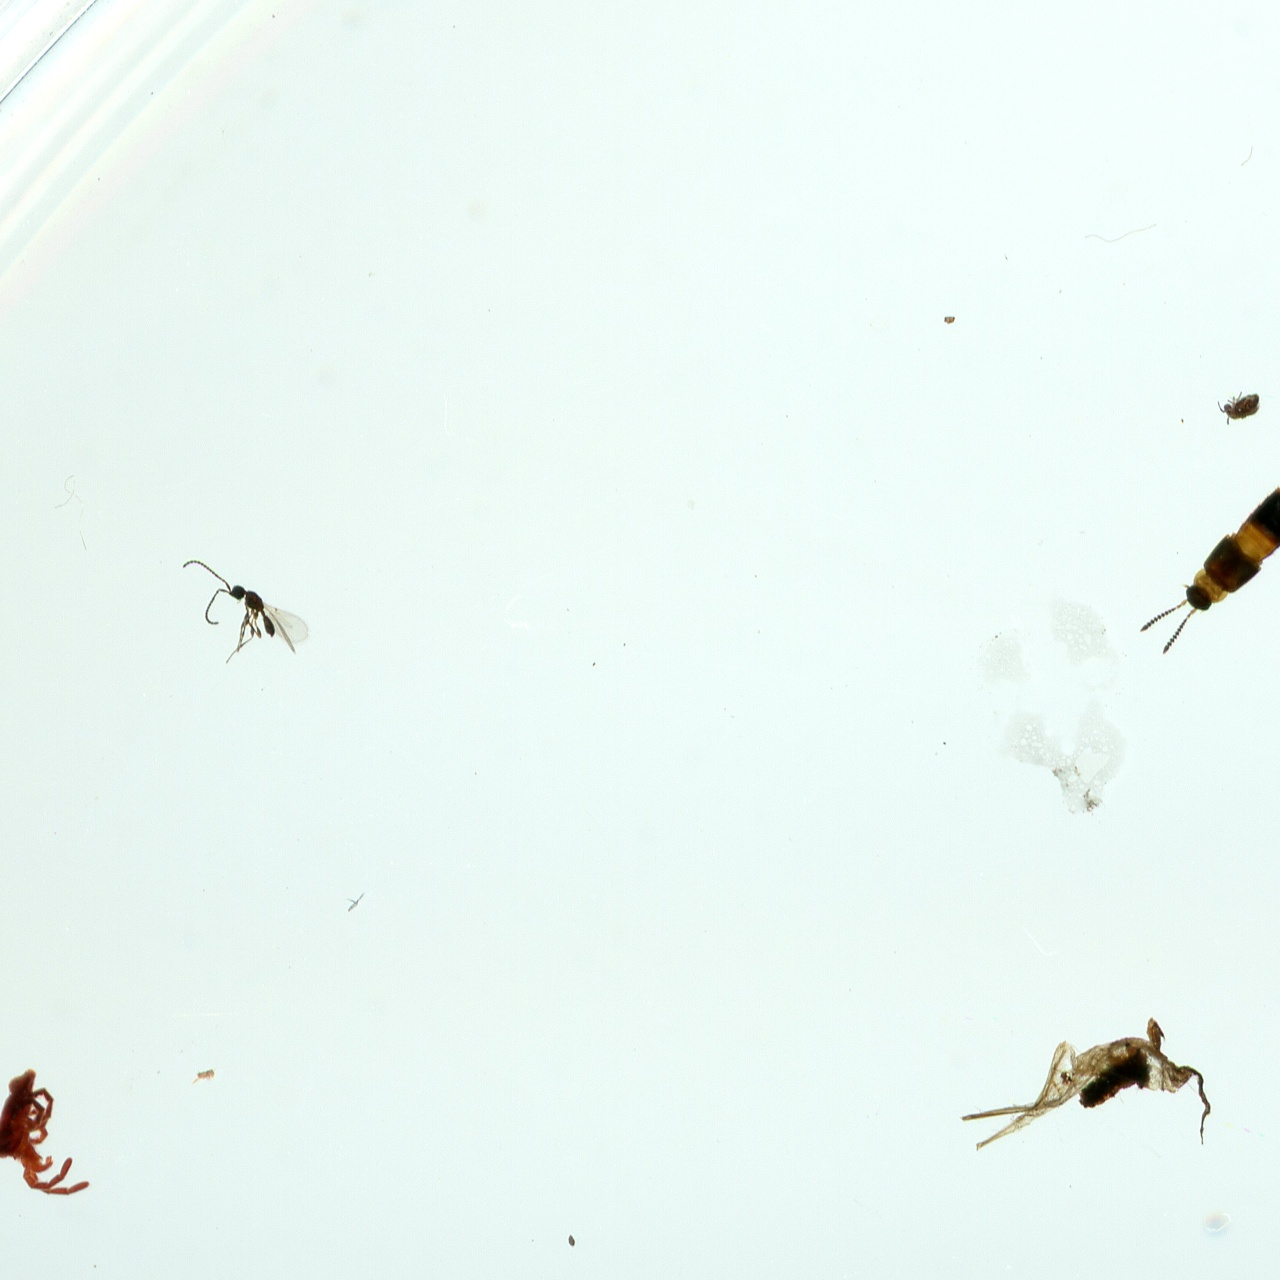arthropod: (1114, 443, 1280, 692), (165, 549, 319, 673), (0, 1054, 98, 1211), (1214, 387, 1265, 429)
